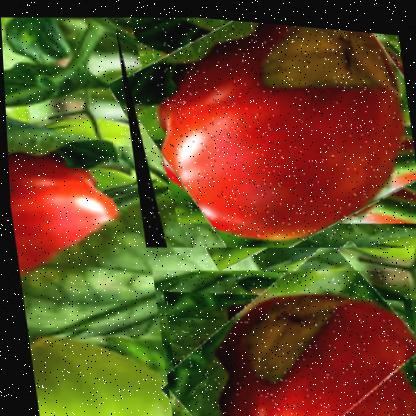tomato_rotten: (112, 7, 415, 268), (146, 245, 415, 415)
